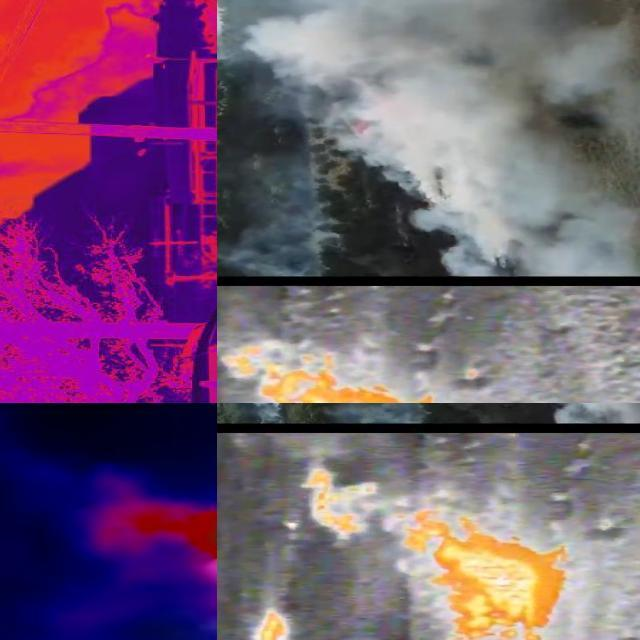fire: (405, 512, 572, 640), (216, 340, 442, 404), (303, 468, 382, 542), (250, 606, 306, 640), (196, 506, 218, 554)
